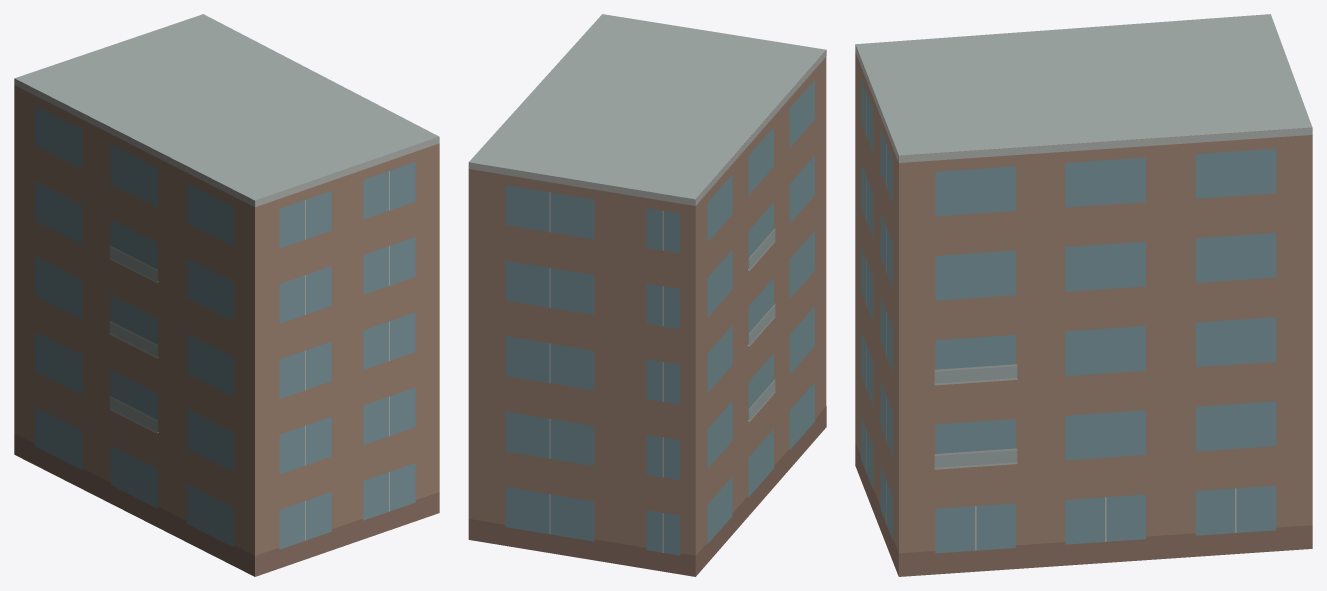
File: survey-upis-32705679.glb
3 renders of one model, left to right at view 1: azimuth 30°, elevation 25°; view 2: azimuth 150°, elevation 25°; view 3: azimuth 270°, elevation 25°, orthographic. The views are drawn at different scales.
Visible parts, largest first — view 1: survey-upis-32705679.tmp; view 2: survey-upis-32705679.tmp; view 3: survey-upis-32705679.tmp.
Boxes of the visible parts, left/top/right/bottom form: survey-upis-32705679.tmp: left=14, top=14, right=439, bottom=576; survey-upis-32705679.tmp: left=468, top=14, right=826, bottom=576; survey-upis-32705679.tmp: left=855, top=14, right=1312, bottom=576.
Bounding box in the file's own units: 9.92 × 13.75 × 13.53.
